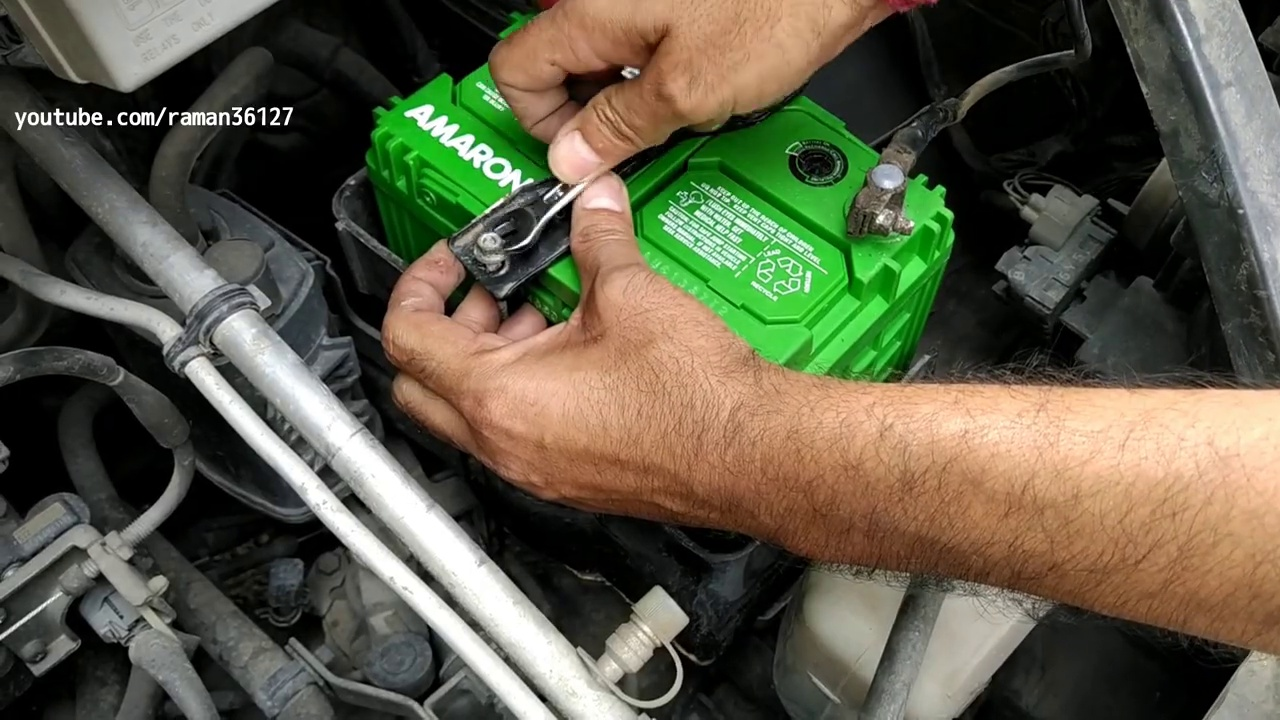battery: (386, 17, 955, 392)
